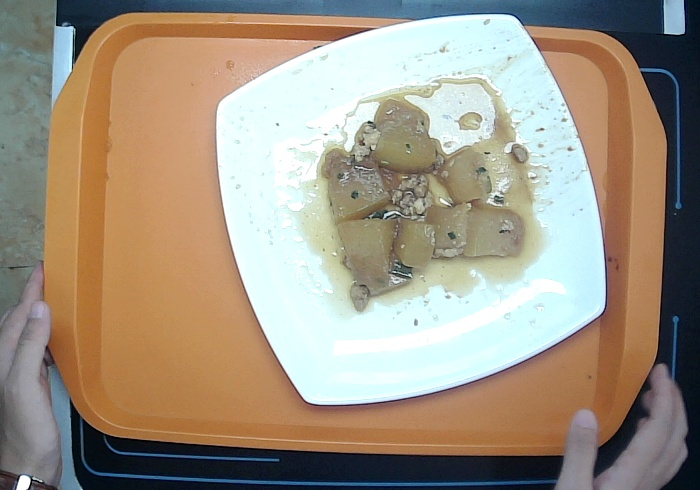ZNLD-Bai_Fang_Pan: (216, 11, 608, 405)
